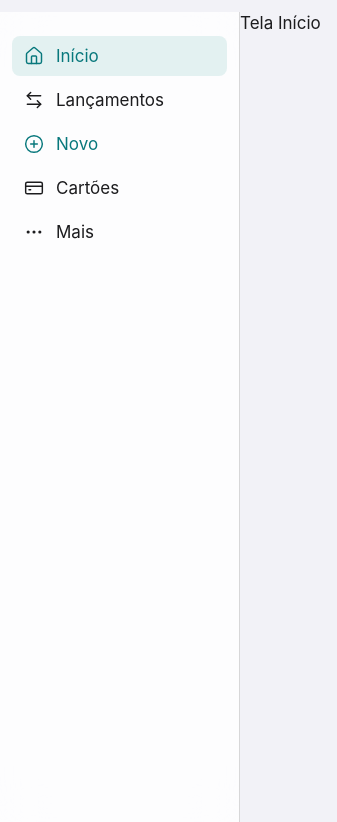
navegação principal › tocar numa aba troca a tela
Click the link "Mais" at (59, 232), box [24,222,94,242]
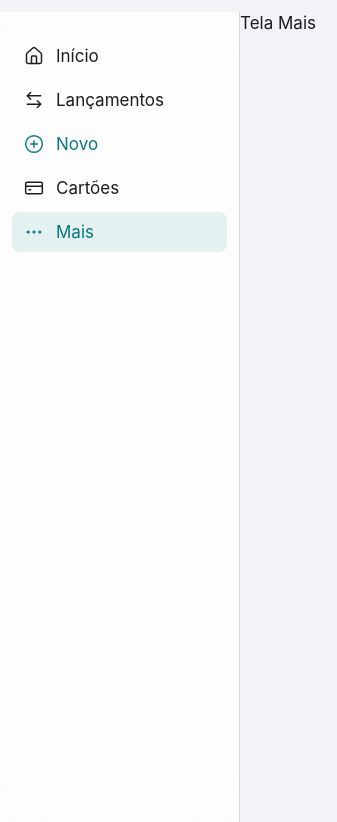
Expected: the heading "Tela Mais" is shown, [240,13,316,33]
